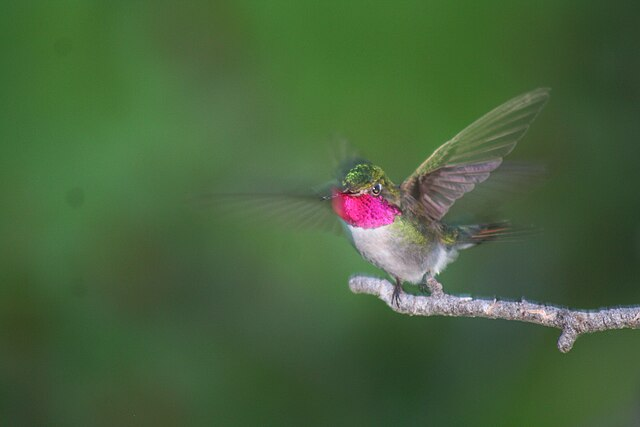selasphorus platycercus: (321, 161, 514, 300)
